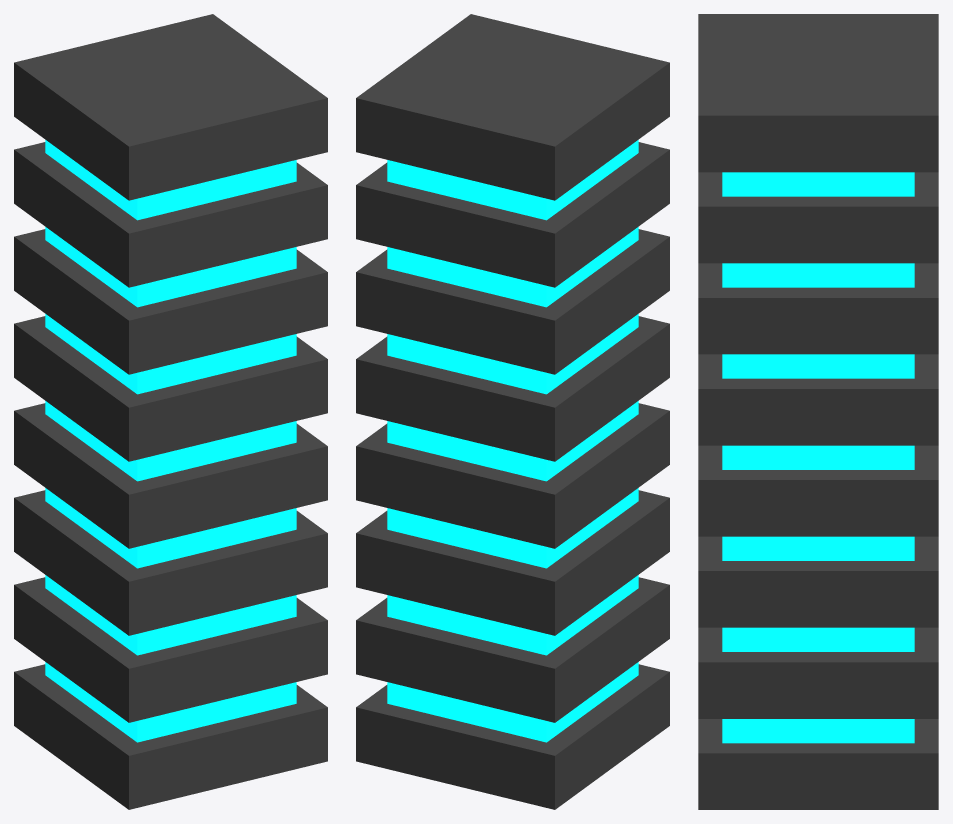
The model's file is tower3.fbx.
3 views of the same model, side by side, from view 1: azimuth 30°, elevation 25°; view 2: azimuth 150°, elevation 25°; view 3: azimuth 270°, elevation 25° (orthographic). The views are drawn at different scales.
Visible parts, largest first — view 1: Tower3; view 2: Tower3; view 3: Tower3.
Part boxes in pixels (x1=…): Tower3: x1=14, y1=14, x2=327, y2=809; Tower3: x1=356, y1=14, x2=669, y2=809; Tower3: x1=698, y1=14, x2=938, y2=809.
Size of the model in its own units: 478 by 1524 by 478.
